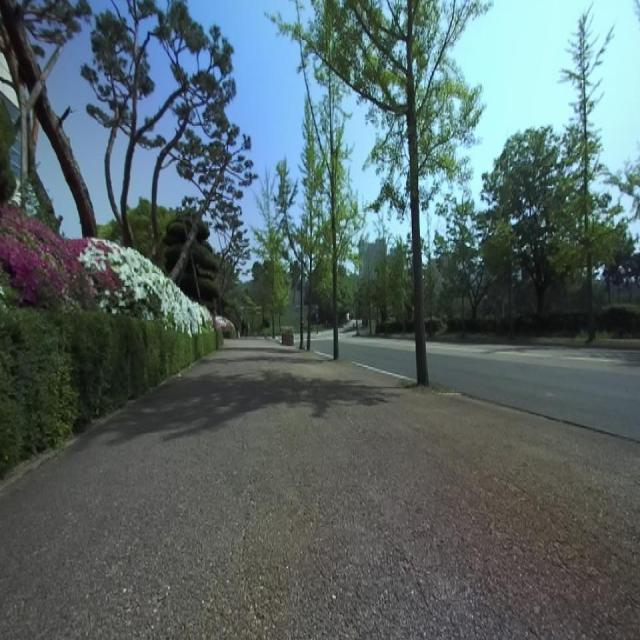sidewalk: (0, 338, 640, 638)
